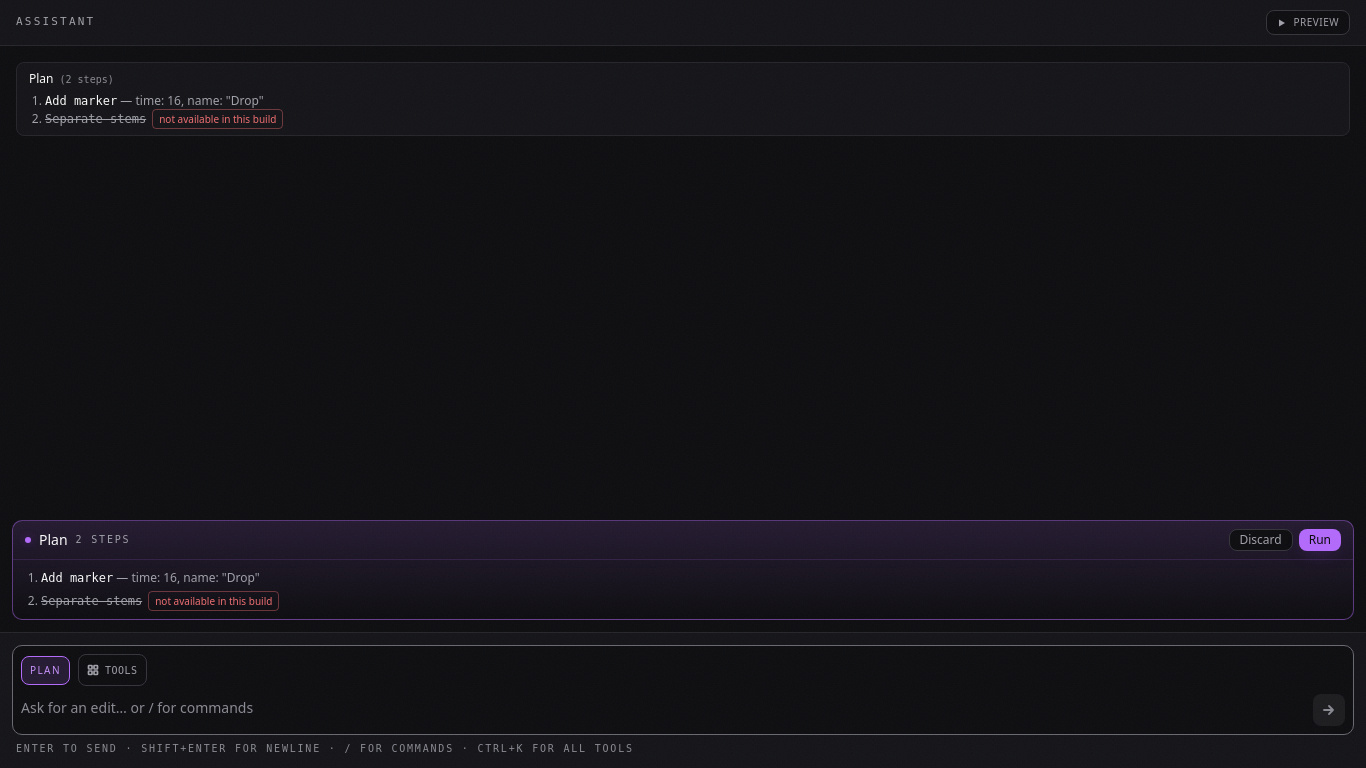
Test: the plan card › keeps the same text in the transcript once the card is answered
This screenshot has width=1366, height=768.
Click the button with test id "plan-run-button" at (1320, 540), box [1299,529,1341,551]
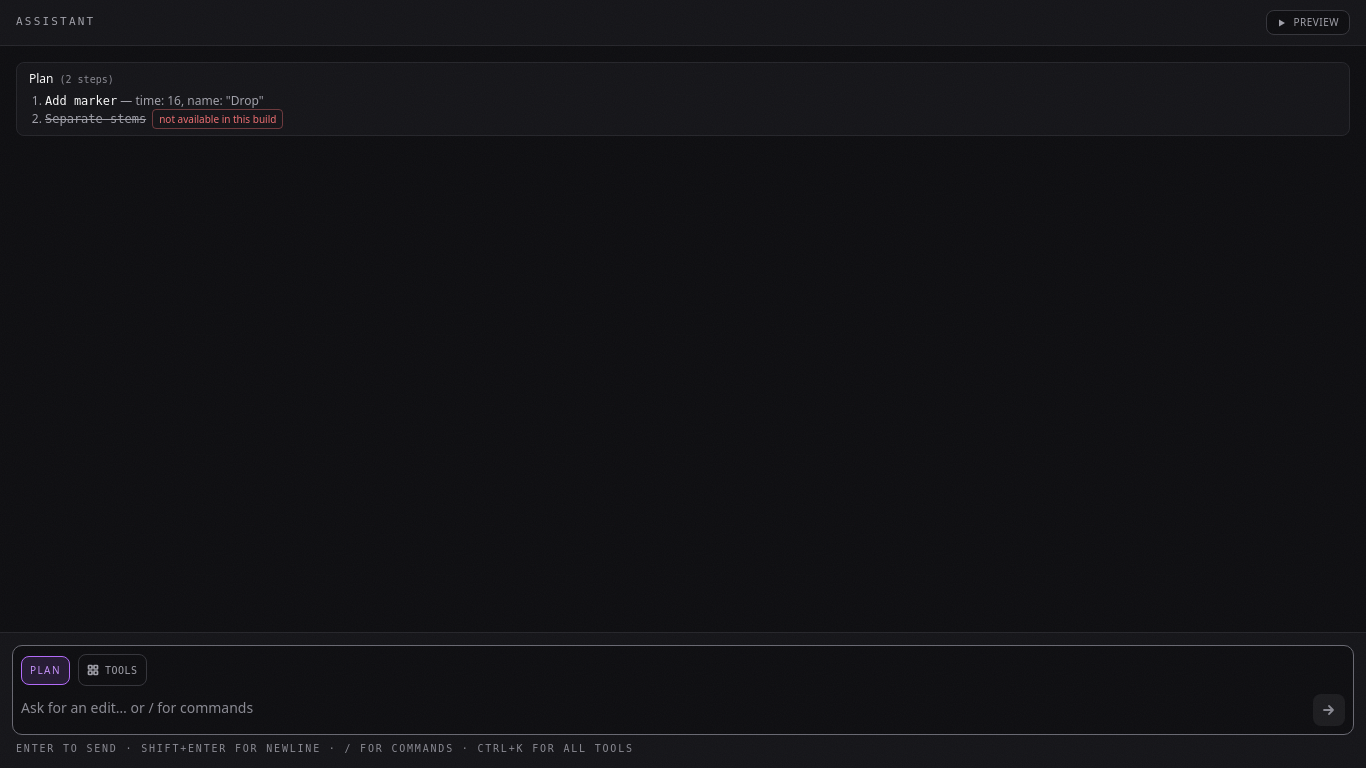
Expected: the element with test id "plan-history-entry" shows "Separate stems", [45,112,146,126]
Expected: the element with test id "plan-approval-card" is gone
